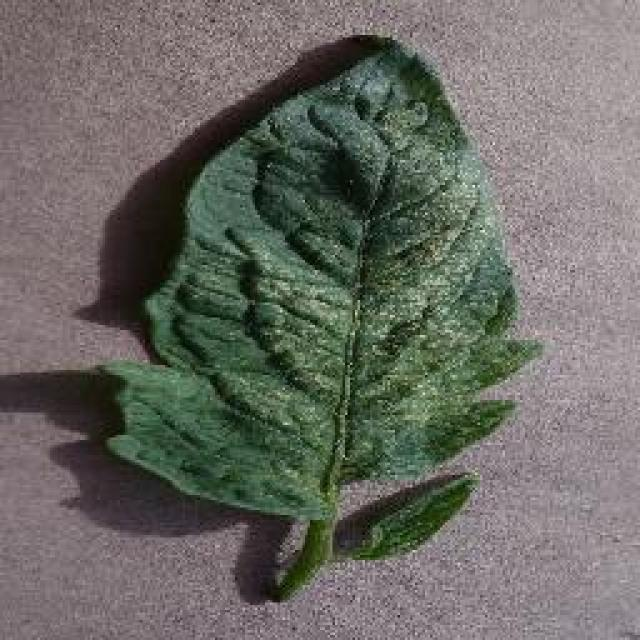Tomato spider mites leaf: (101, 44, 548, 514)
